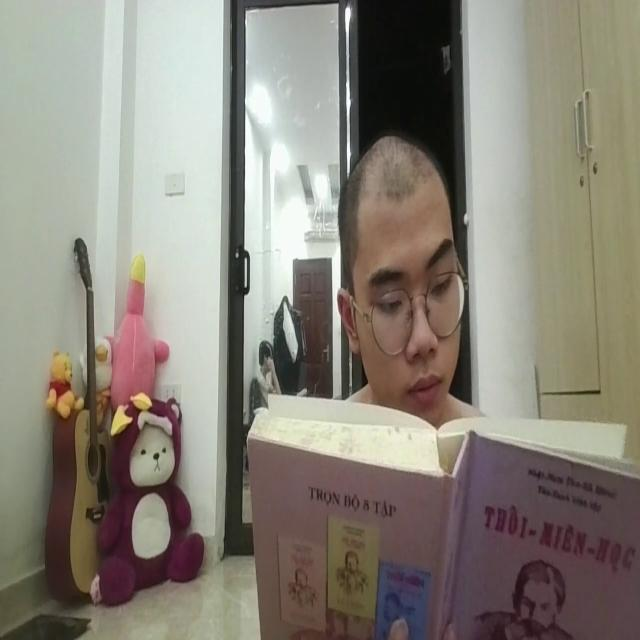book: (236, 388, 640, 640)
extra_person: (254, 332, 286, 407)
student: (328, 131, 487, 428)
